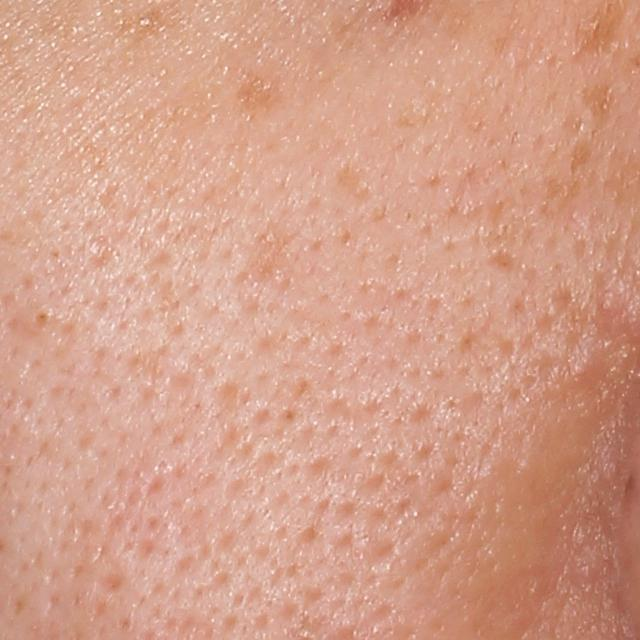atrophic_scar: (334, 163, 379, 206)
melasma: (533, 136, 595, 220), (108, 1, 186, 45), (226, 73, 287, 117), (576, 73, 622, 126)
